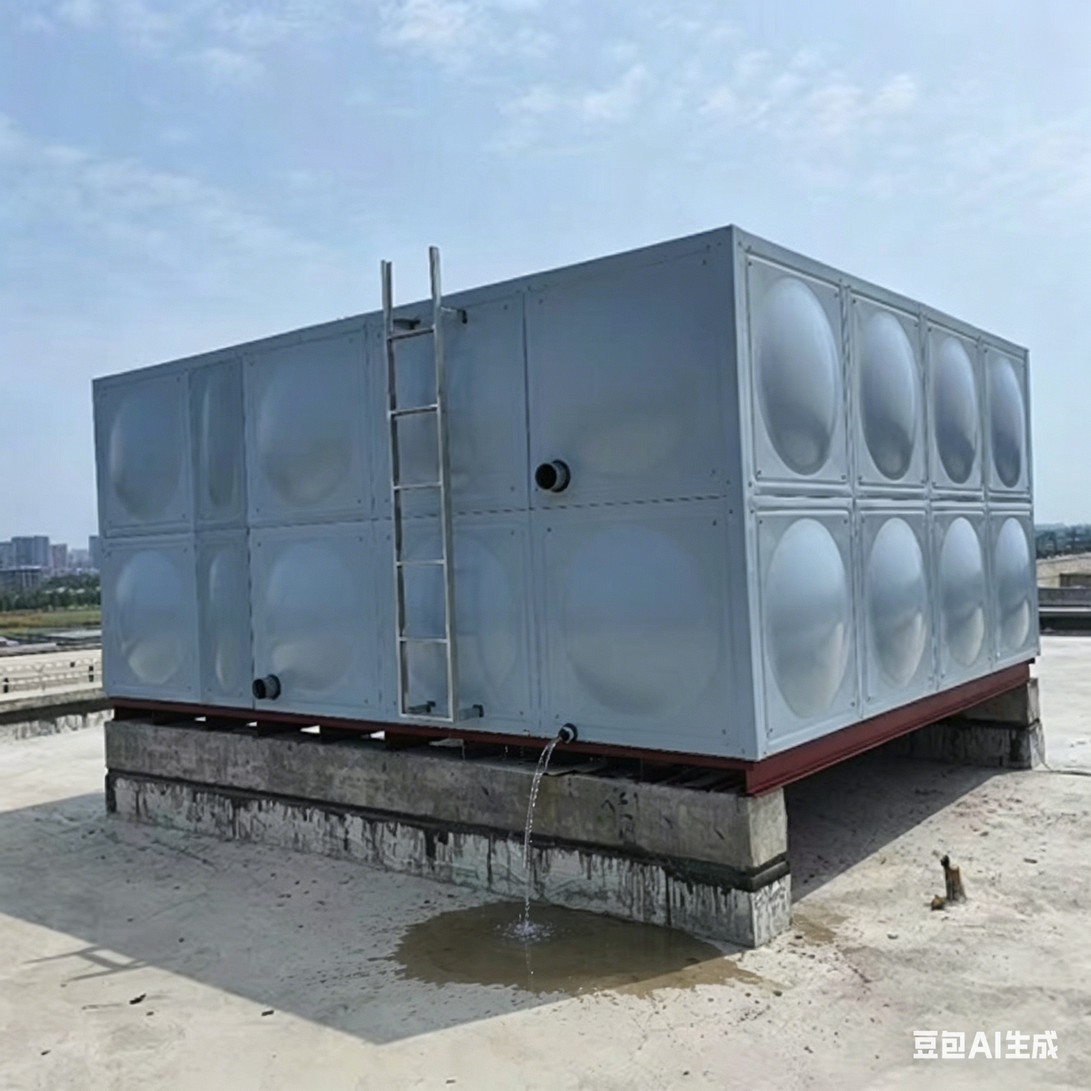Leakage: (513, 708, 596, 995), (379, 894, 505, 997), (604, 925, 776, 999)
